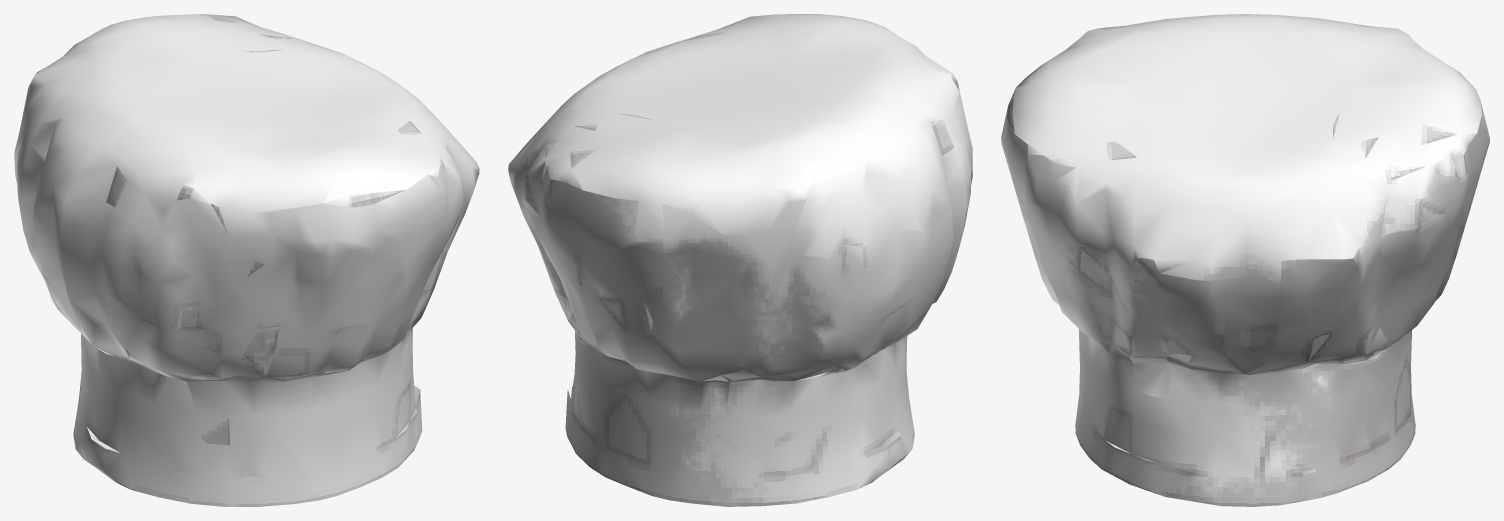
The model's file is wear_chef2.glb.
The picture shows the model from 3 angles, left to right: view 1: azimuth 30°, elevation 25°; view 2: azimuth 150°, elevation 25°; view 3: azimuth 270°, elevation 25°; orthographic projection.
Visible parts, largest first — view 1: mesh; view 2: mesh; view 3: mesh.
Boxes of the visible parts, box(x1,y1,x2,y2) form: mesh: box(14, 14, 479, 506); mesh: box(508, 14, 972, 506); mesh: box(1001, 14, 1489, 506).
Size of the model in its own units: 0.2865 by 0.25 by 0.3113.
1 material, 1 textured.
